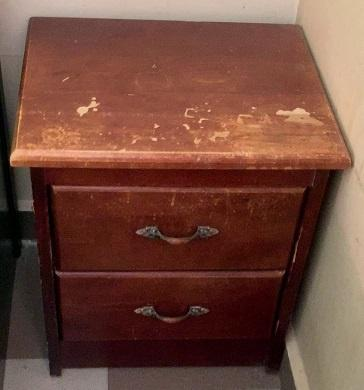cabinet_door: (52, 189, 296, 274), (57, 272, 279, 339)
handle: (137, 219, 222, 249), (132, 300, 210, 327)
